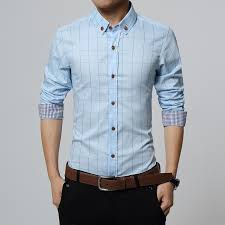Shirt: (34, 9, 198, 174)
